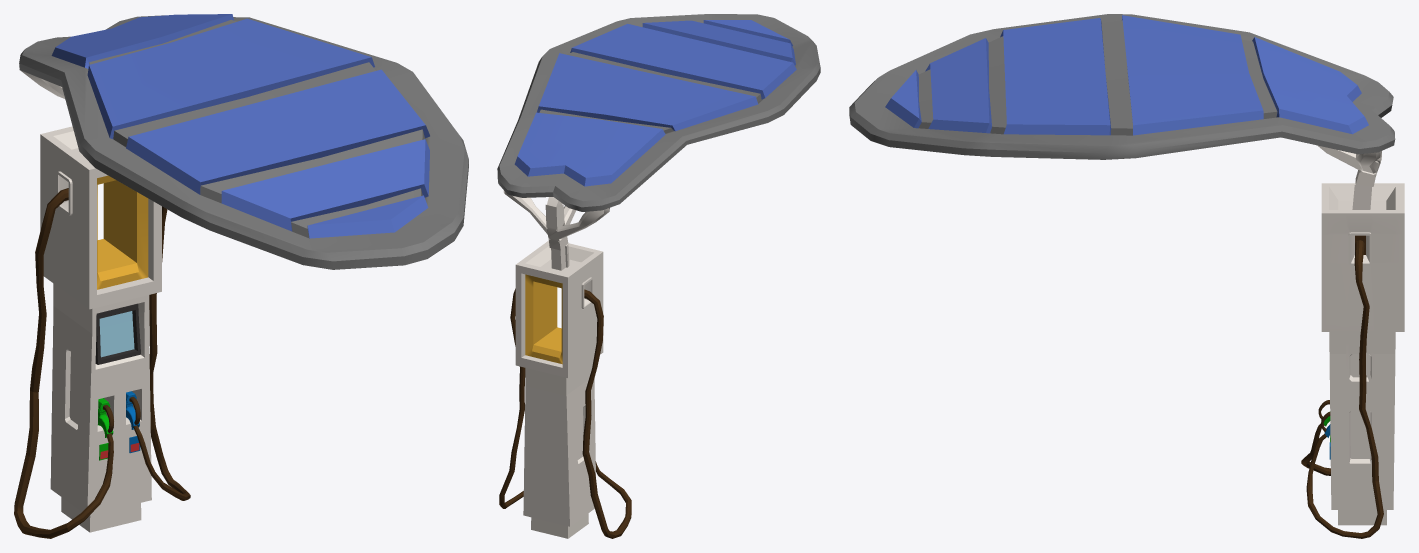
File: ElectricCars-FuelStation.fbx
3 renders of one model, left to right at view 1: azimuth 30°, elevation 25°; view 2: azimuth 150°, elevation 25°; view 3: azimuth 270°, elevation 25°, orthographic. The views are drawn at different scales.
Visible parts, largest first — view 1: Electric_cars_solar_power; view 2: Electric_cars_solar_power; view 3: Electric_cars_solar_power.
Boxes of the visible parts, x1,y1,x2,y2 form: Electric_cars_solar_power: (14, 14, 468, 538); Electric_cars_solar_power: (497, 14, 820, 538); Electric_cars_solar_power: (849, 14, 1404, 538).
Size of the model in its own units: 117 by 181 by 205.
